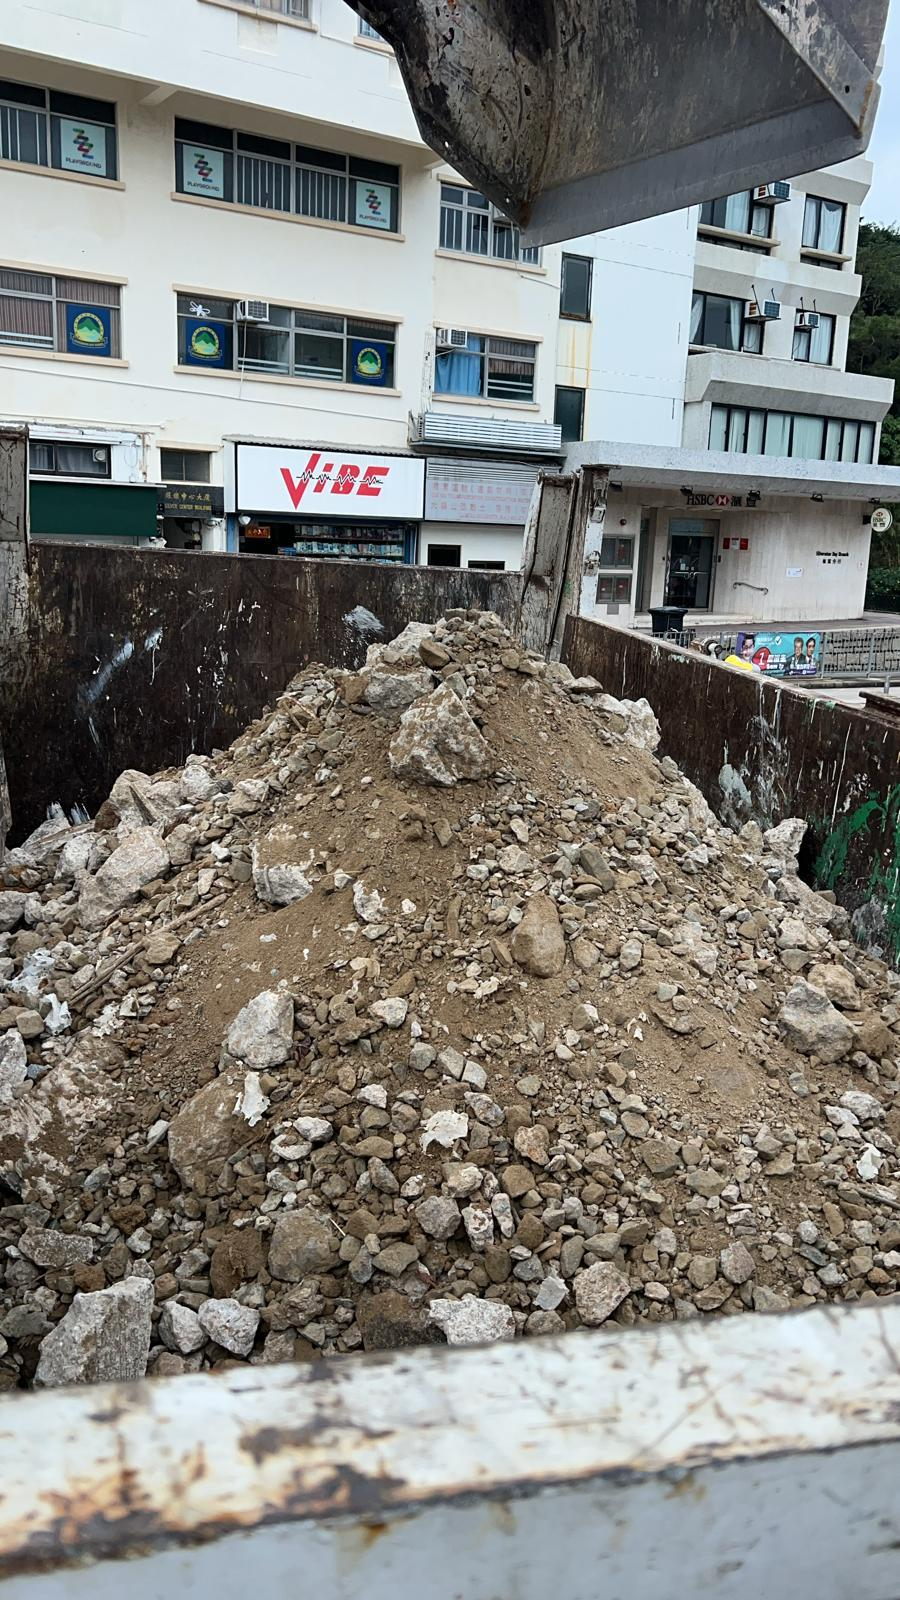dirt: (1, 605, 898, 1387)
stone: (33, 1273, 154, 1388), (387, 680, 497, 787), (776, 979, 854, 1062), (224, 988, 295, 1068), (509, 891, 566, 977)
